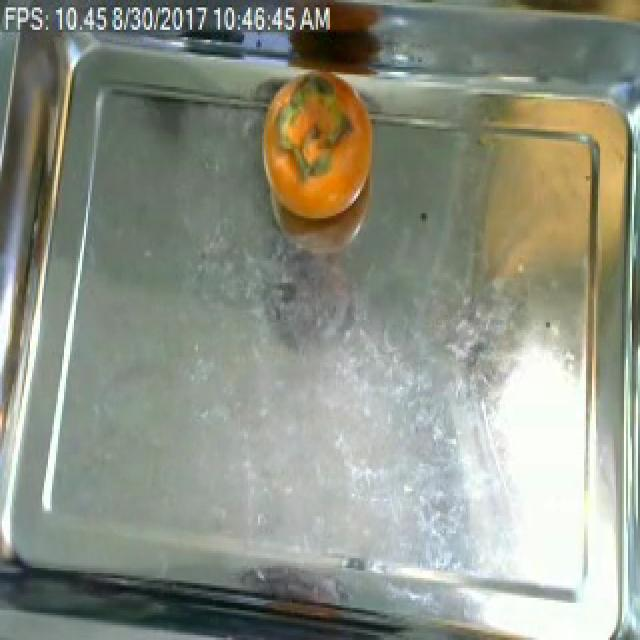Fruit: (466, 119, 606, 390), (260, 64, 378, 224)
